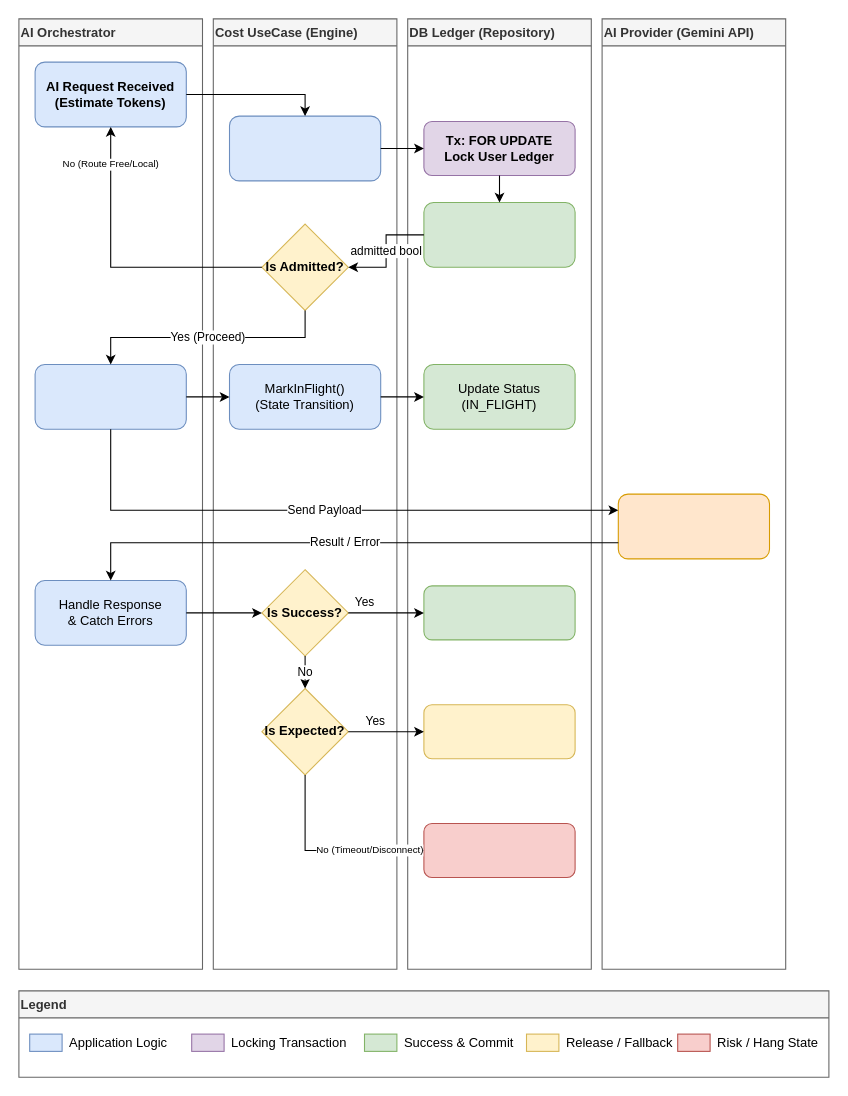
This 848x1096 diagram has some shape labels left out. Each missing label, with the centre of its shape:
"Confirm actual cost & Release excess (CONFIRMED)" belongs at (499,612).
"Execute Call (Send LLM Payload)" belongs at (110,396).
"Execute Text / Recommendation Gen" belongs at (693,526).
"Mark cost unknown (UNKNOWN_USAGE)" belongs at (499,850).
"Prepare() (Check Limits/Quota)" belongs at (304,148).
"Release reserve cost (RELEASED)" belongs at (499,731).
"Reserve Cost & Create Event (RESERVED)" belongs at (499,234).
